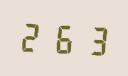six: (49, 19, 78, 56)
three: (79, 20, 108, 58)
two: (18, 17, 47, 55)
